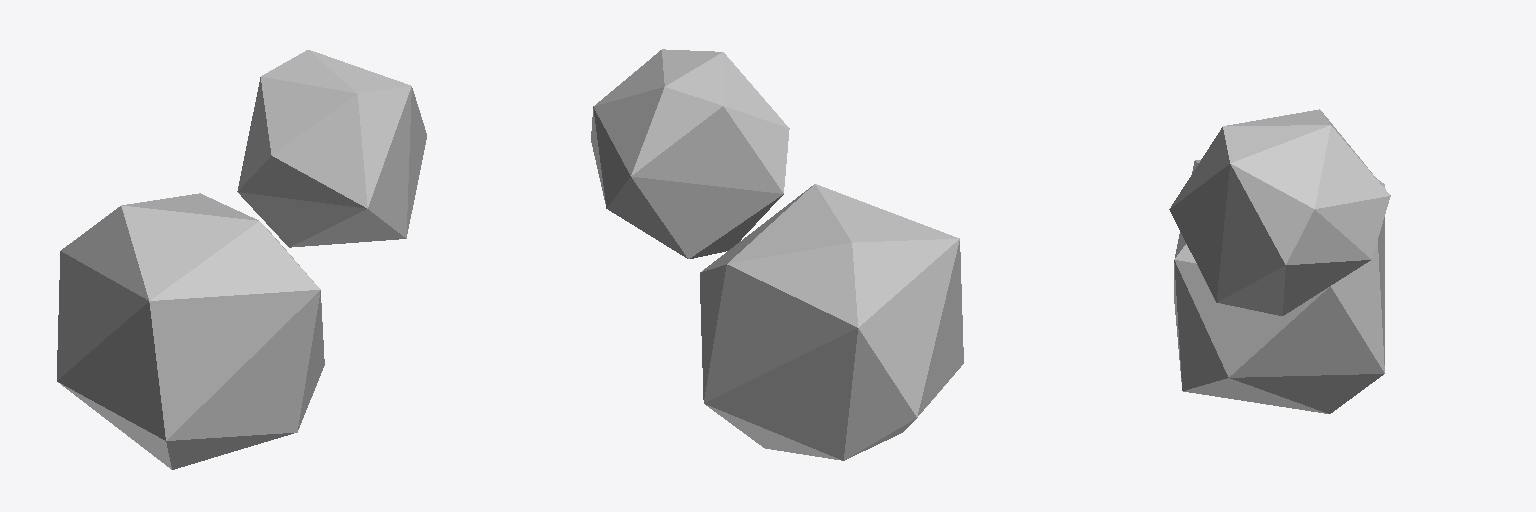
Rendered from Cloud19.obj.
3 views of the same model, side by side, from view 1: azimuth 30°, elevation 25°; view 2: azimuth 150°, elevation 25°; view 3: azimuth 270°, elevation 25° (orthographic).
Visible parts, largest first — view 1: Cloud19_Object_80_Object_38.001; view 2: Cloud19_Object_80_Object_38.001; view 3: Cloud19_Object_80_Object_38.001.
Boxes of the visible parts, x1,y1,x2,y2 form: Cloud19_Object_80_Object_38.001: [57, 50, 426, 469]; Cloud19_Object_80_Object_38.001: [591, 49, 963, 460]; Cloud19_Object_80_Object_38.001: [1169, 109, 1390, 413].
Bounding box in the file's own units: 0.4847 × 0.4488 × 0.2668.